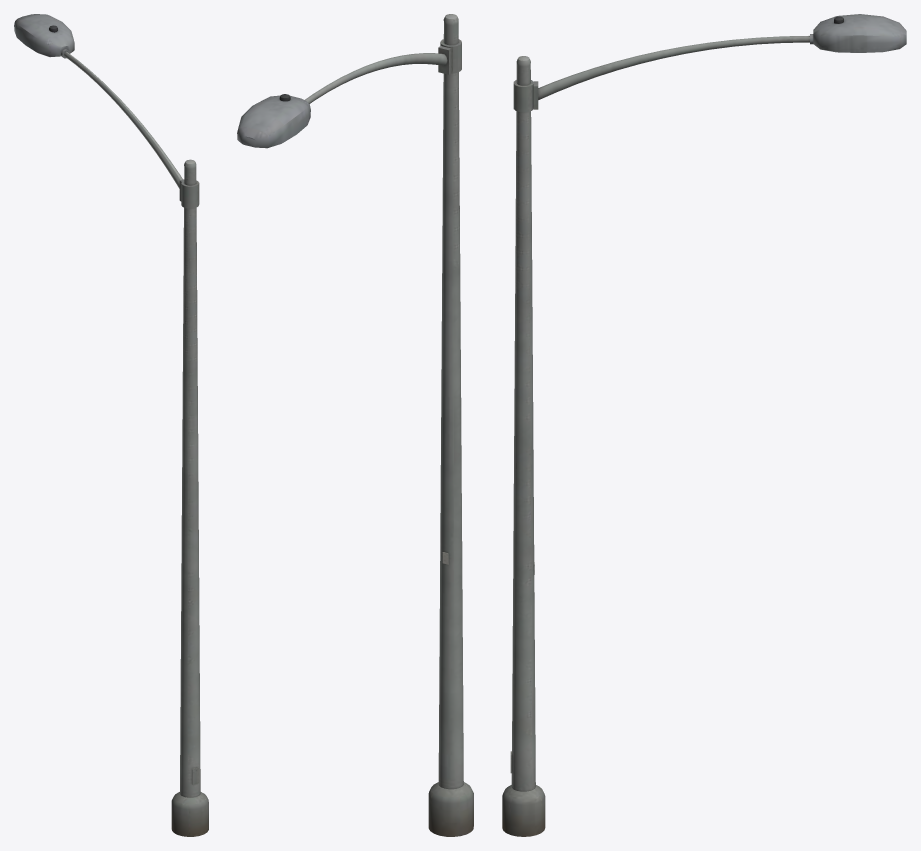
The model's file is lampCobra-v2.glb.
The picture shows the model from 3 angles, left to right: view 1: azimuth 30°, elevation 25°; view 2: azimuth 150°, elevation 25°; view 3: azimuth 270°, elevation 25°; orthographic projection. The views are drawn at different scales.
Visible parts, largest first — view 1: lampCobra; view 2: lampCobra; view 3: lampCobra.
Part boxes in pixels (x1,y1,x2,y2): lampCobra: [14, 14, 208, 836]; lampCobra: [237, 14, 473, 836]; lampCobra: [502, 14, 906, 836].
Bounding box in the file's own units: 0.44 × 7.66 × 3.46.
Materials: 2 (2 with a texture image).
